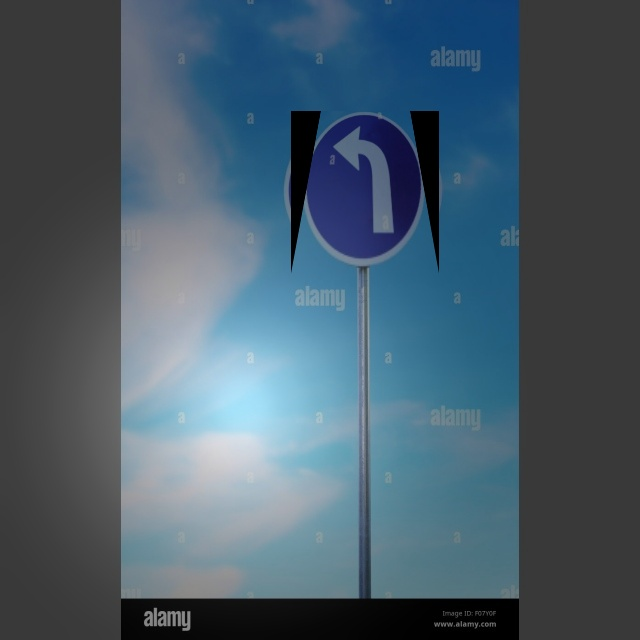Compulsory_Turn_Left_Ahead: (291, 111, 439, 274)
